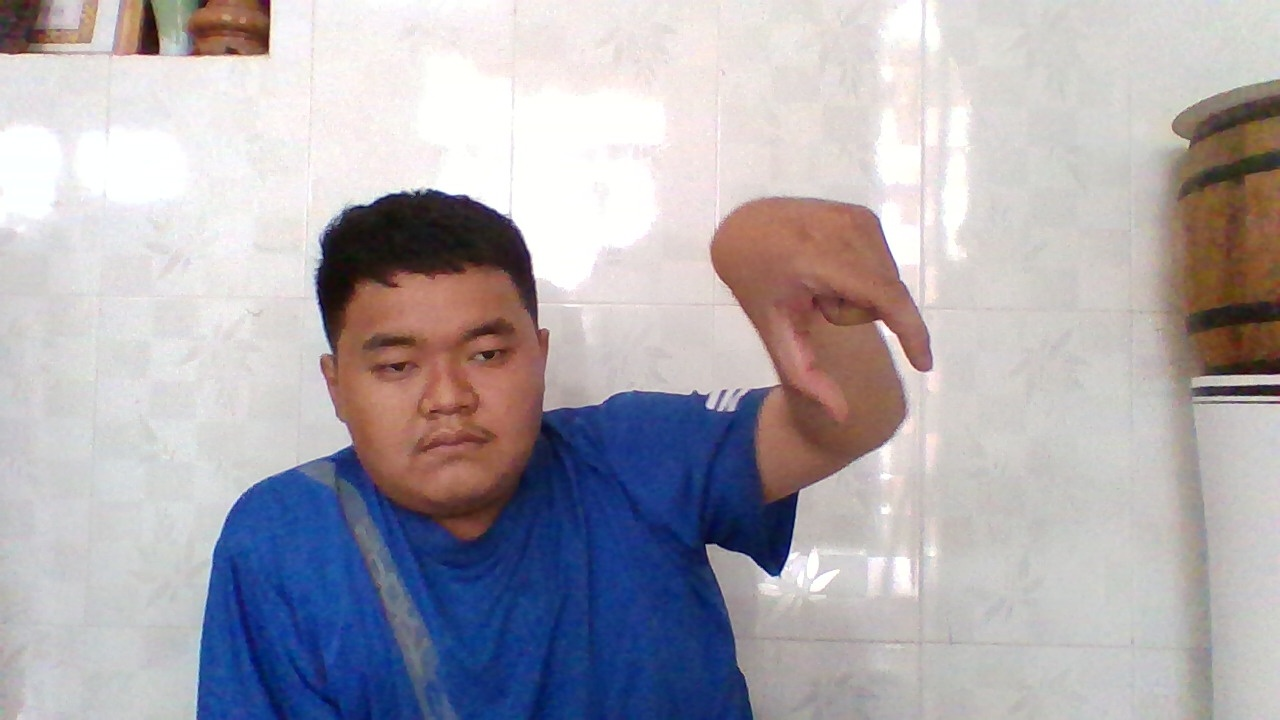Q: (723, 196, 947, 428)
